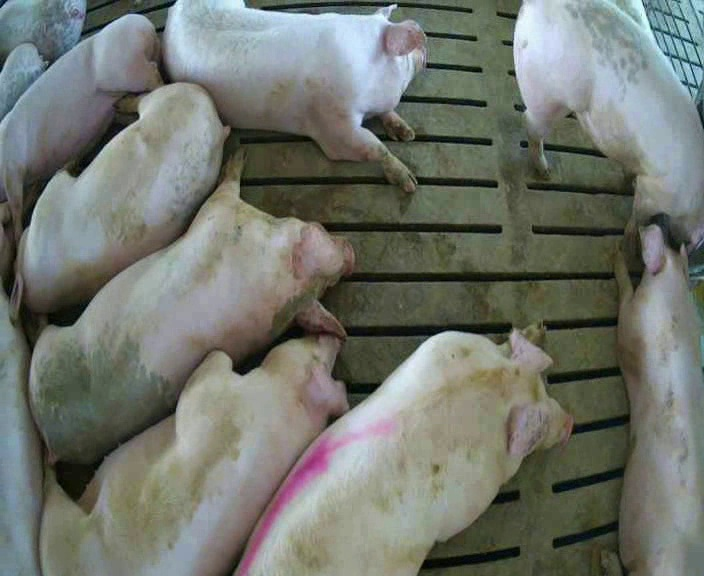pig: (23, 150, 351, 465), (238, 325, 572, 573), (43, 335, 346, 572), (8, 83, 228, 323), (163, 2, 425, 191), (514, 2, 703, 246), (0, 15, 160, 237)
